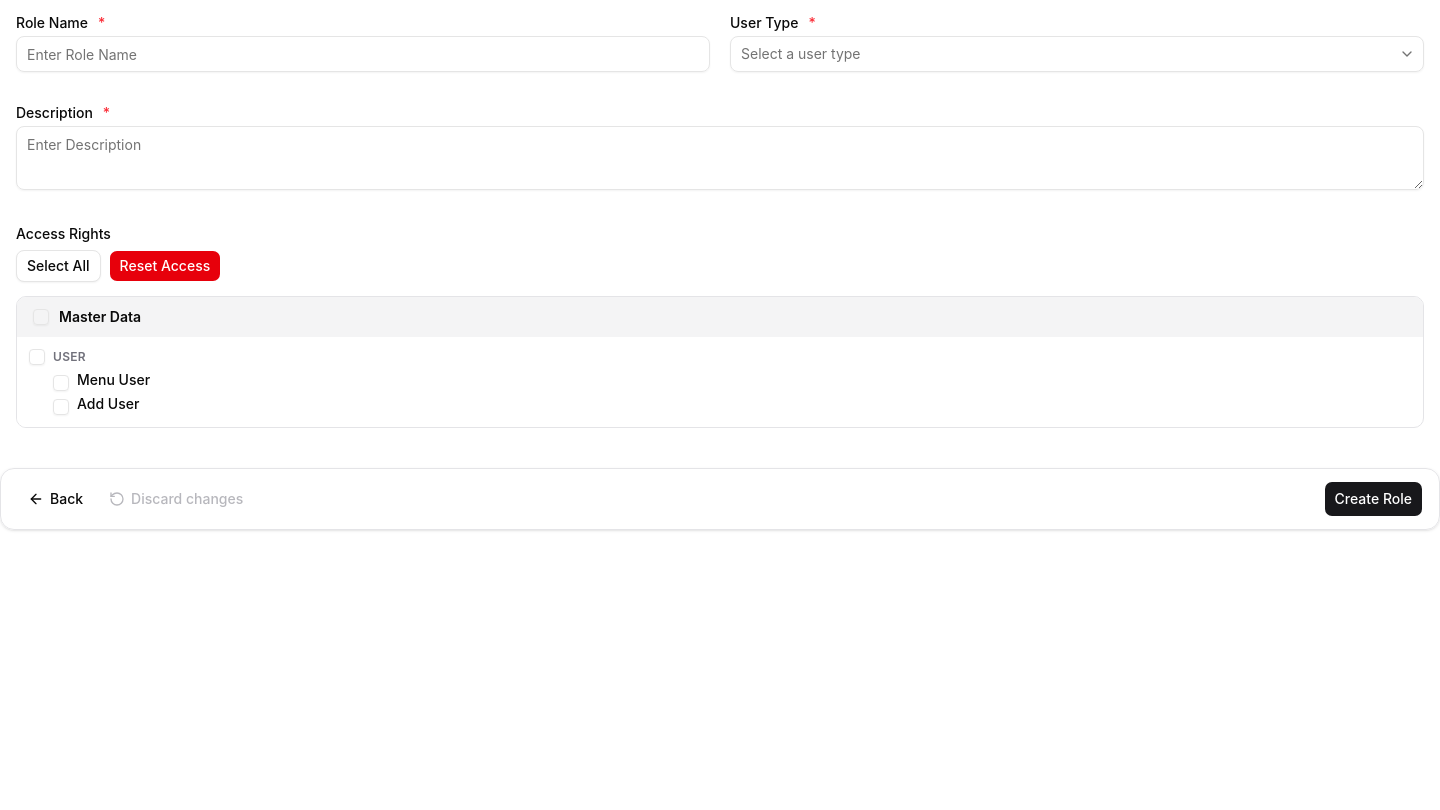
Test case: RoleForm — action bar › discards a create back to the empty form
In the field labelled "Role Name *": coordinates (363, 54) [16,36,710,72], type "Editor"
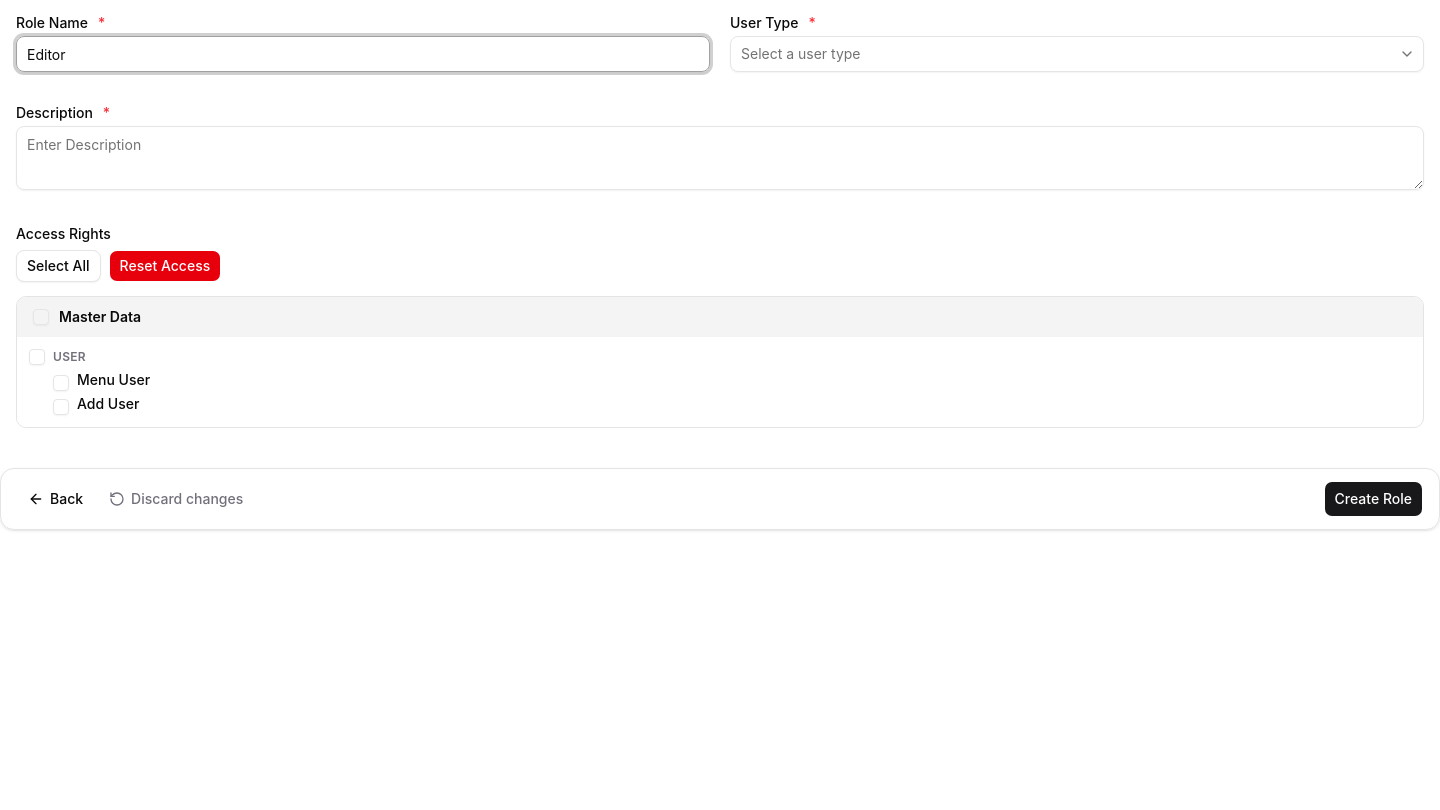
Click the checkbox named "Add User" next to "Add User": coordinates (61, 407) [53,399,69,415]
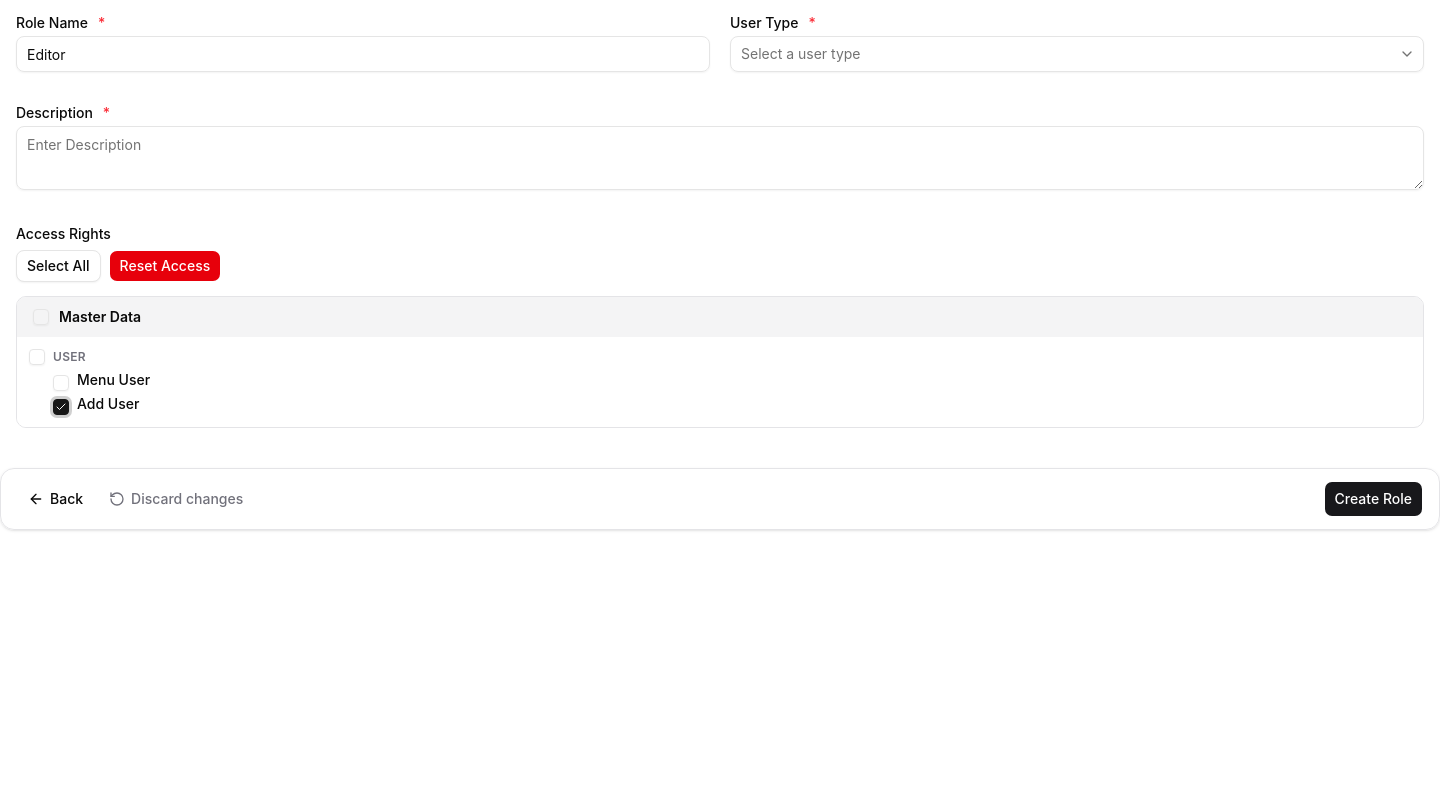
Click the button "Discard changes": coordinates (176, 499) [98,481,254,517]
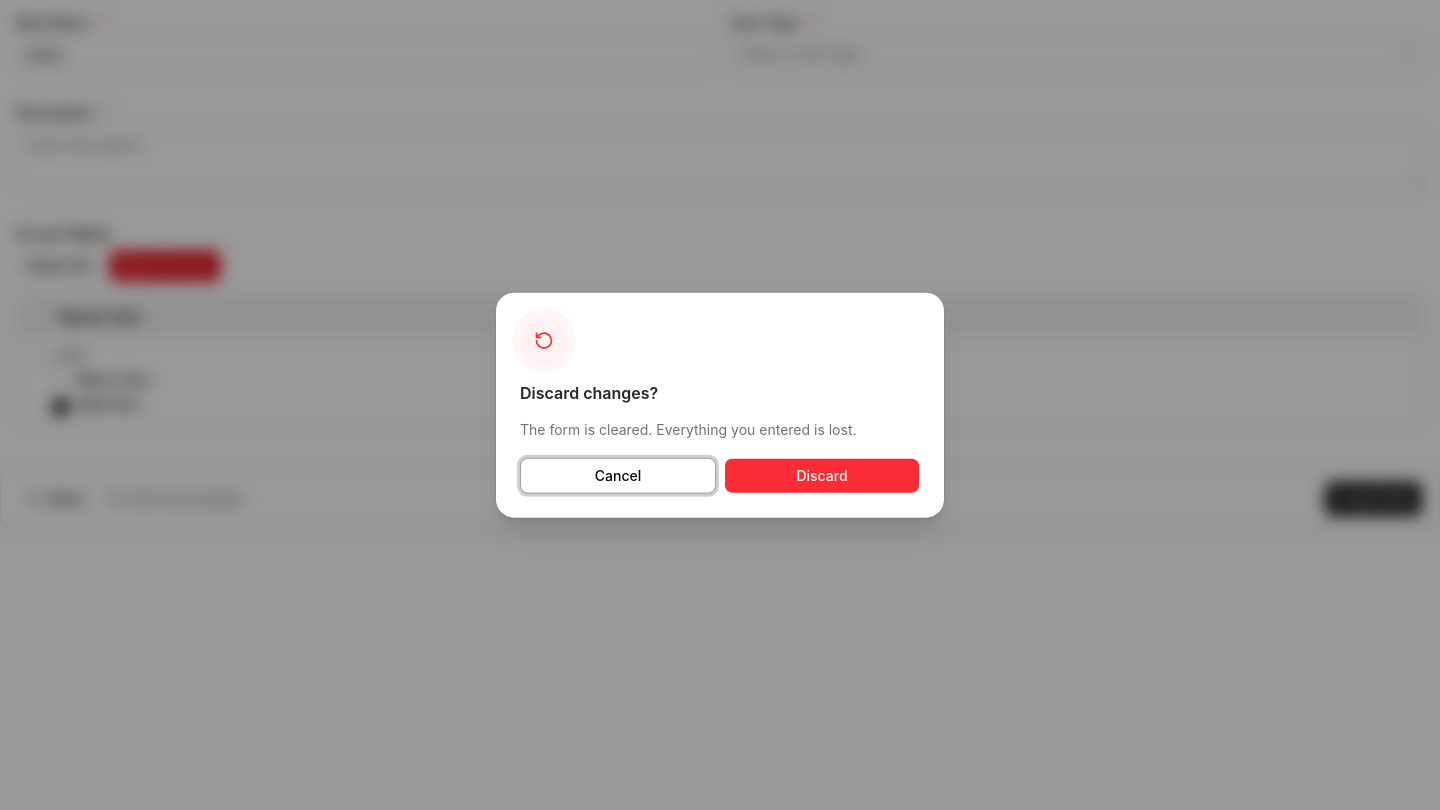
Click the button "Discard": coordinates (822, 475) [724,457,920,493]
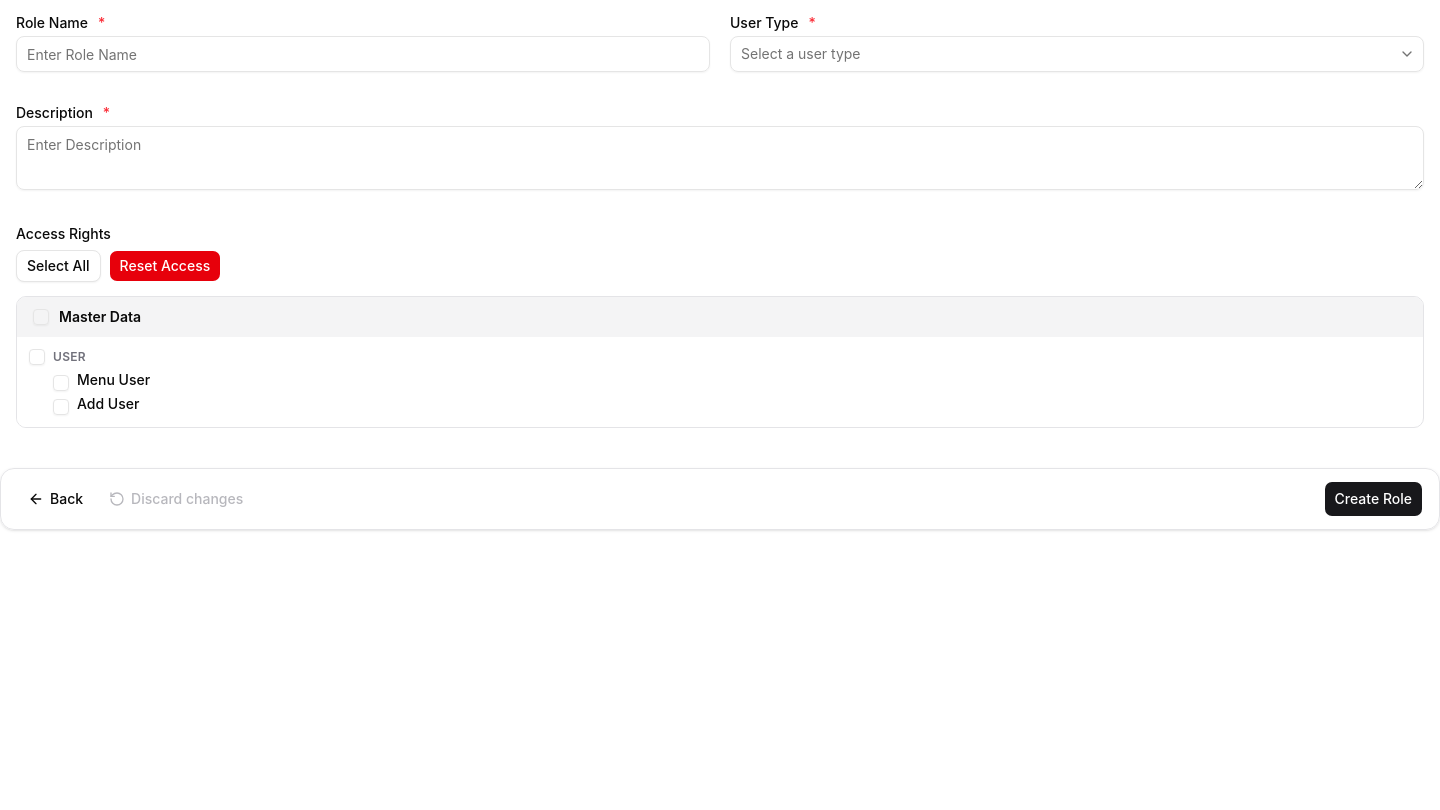
Expected: the checkbox named "Add User" next to "Add User" is not checked, [53,399,69,415]
Expected: the dialog is gone
Expected: the field labelled "Role Name *" is empty, [16,36,710,72]
